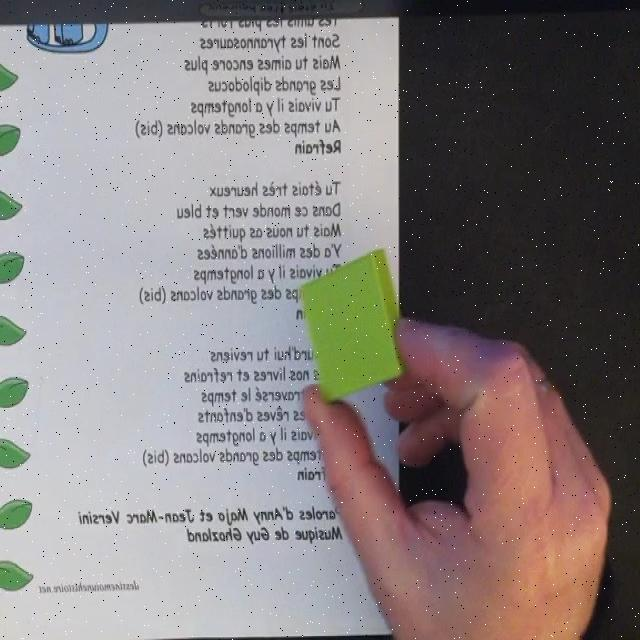square: (298, 250, 406, 403)
